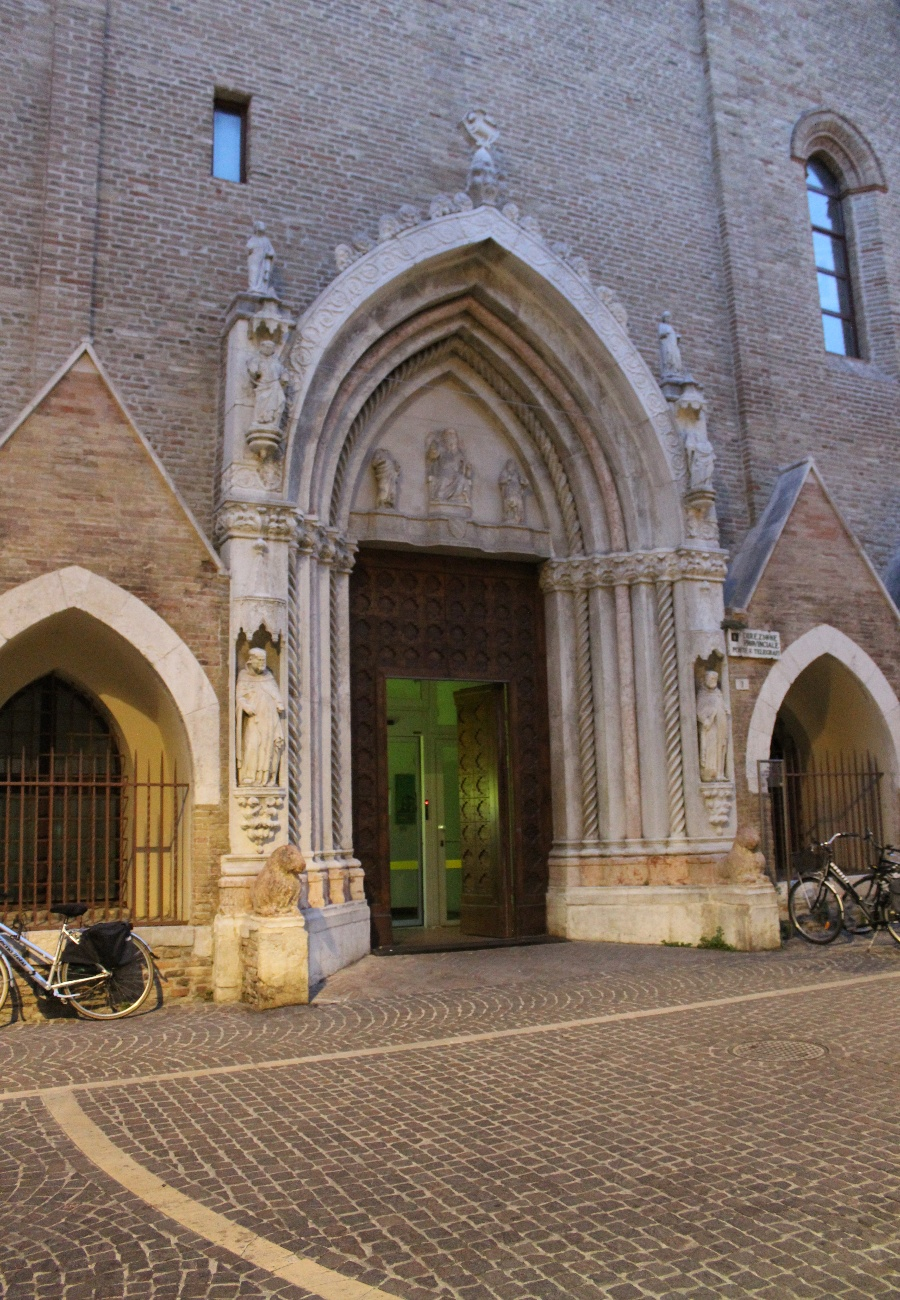Portale San Domenico: (215, 114, 778, 959)
